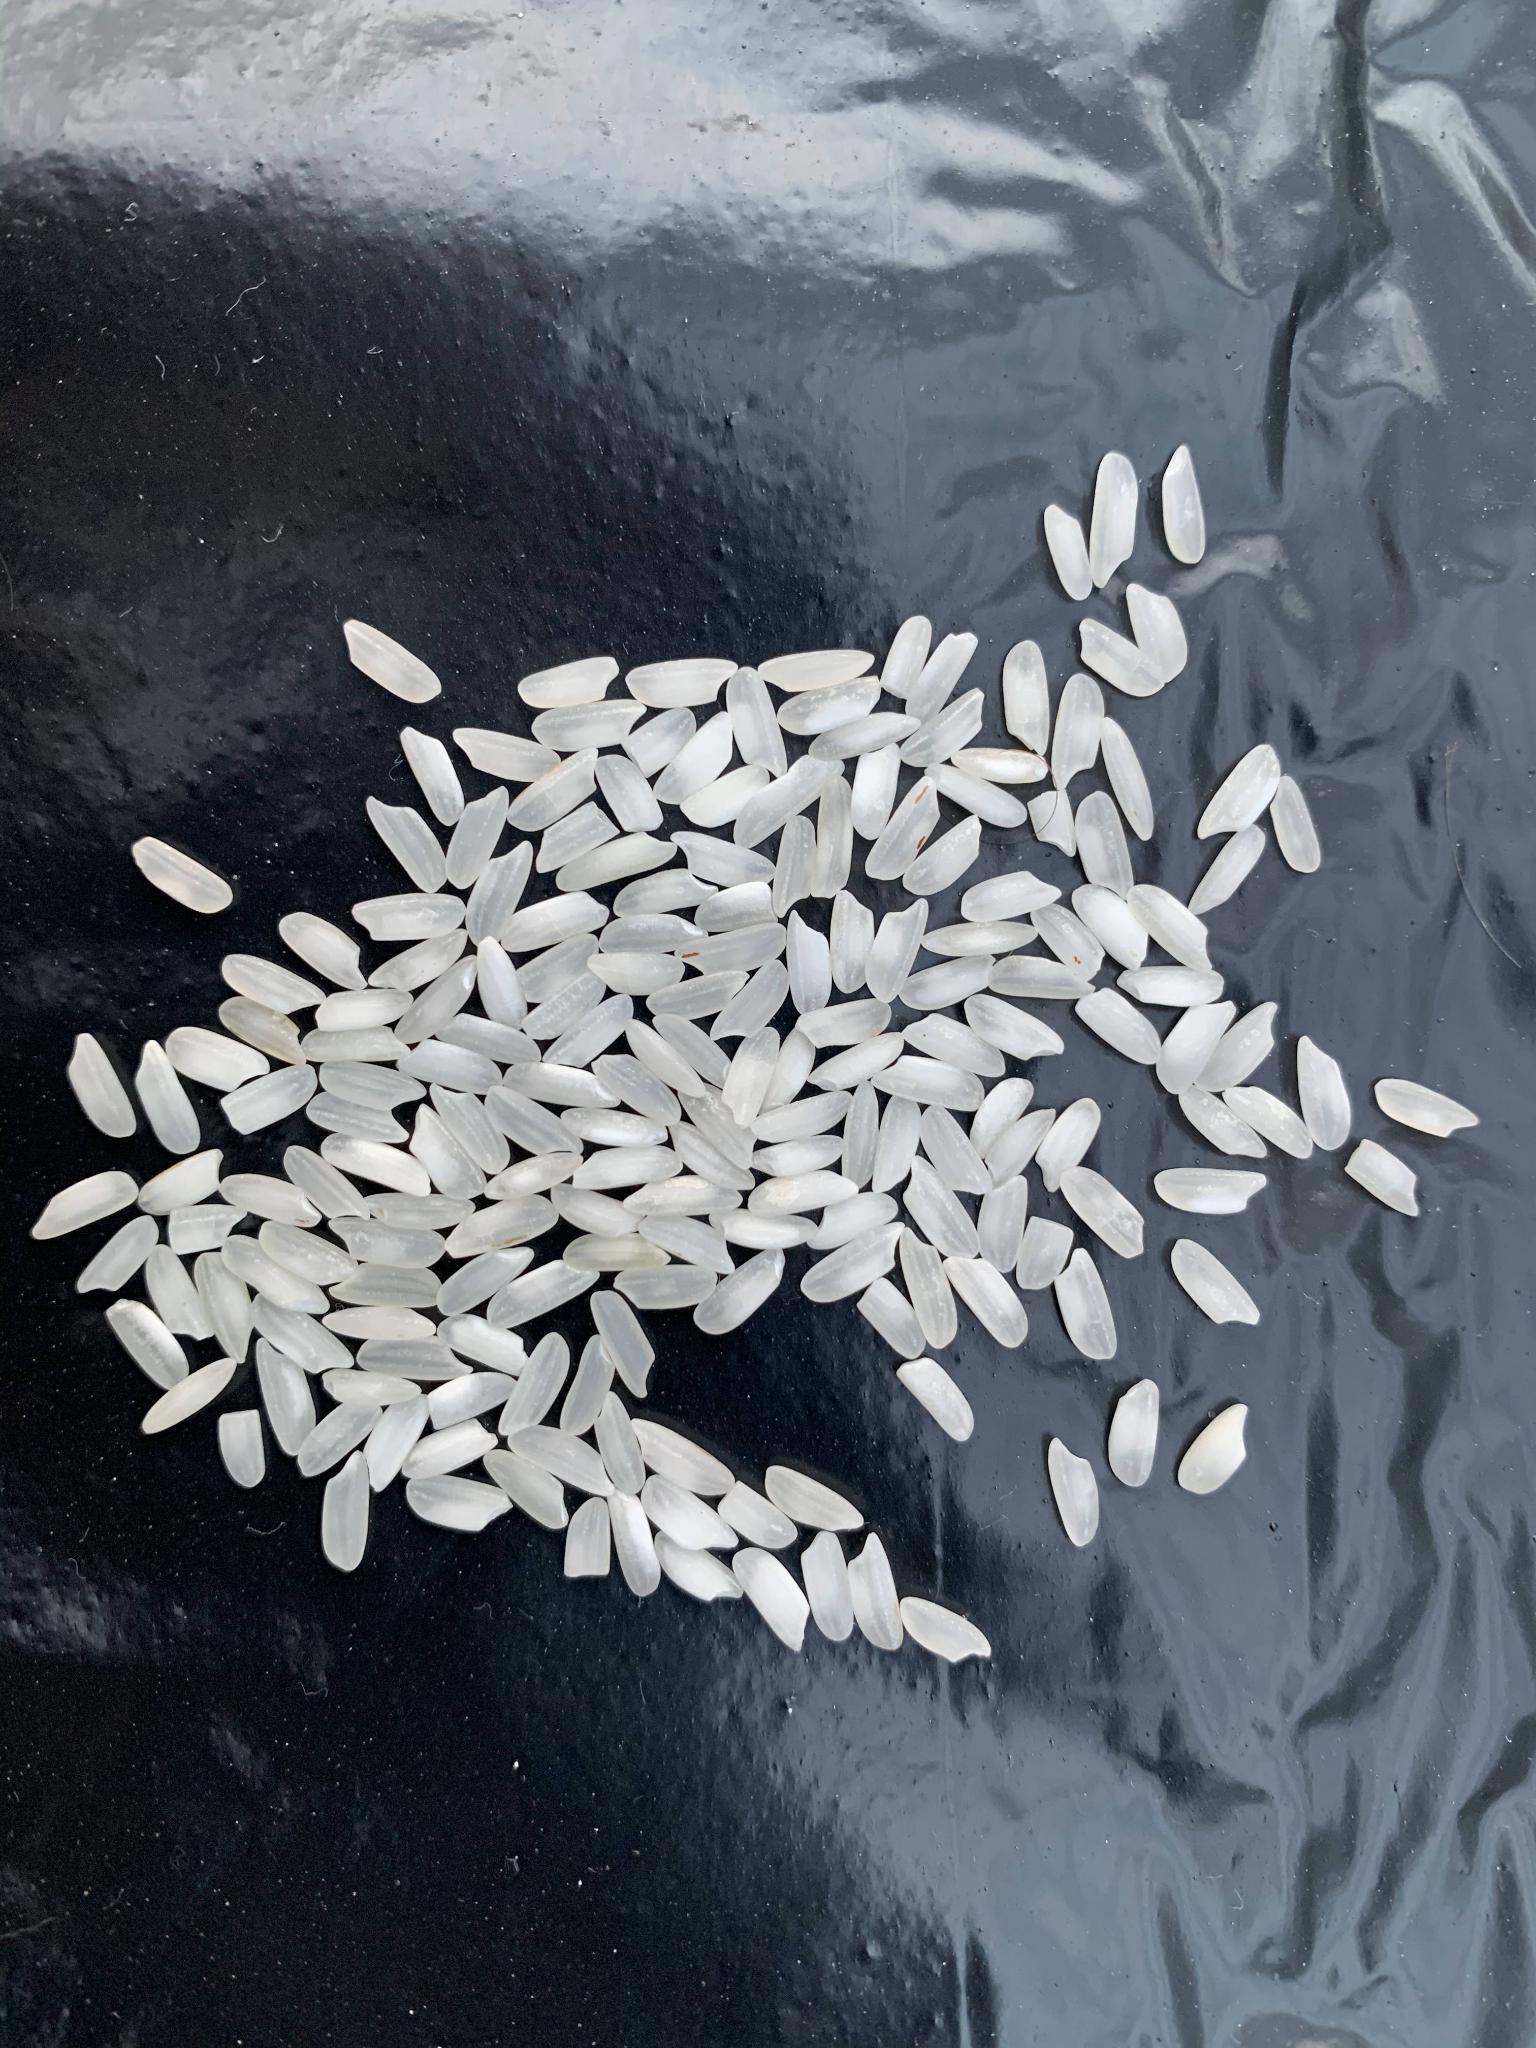rice: (734, 756, 845, 851), (800, 1222, 907, 1305), (253, 1292, 353, 1377), (344, 621, 442, 705), (692, 1251, 787, 1337), (1196, 1001, 1283, 1093), (944, 1256, 1029, 1350), (1155, 1000, 1238, 1097), (733, 1546, 808, 1651), (365, 795, 445, 893), (1171, 1238, 1260, 1327), (632, 1417, 734, 1495), (131, 835, 232, 913), (132, 1039, 202, 1151), (653, 710, 734, 806), (499, 1330, 573, 1435), (904, 1156, 979, 1258), (1199, 743, 1279, 839), (866, 776, 937, 884), (227, 1238, 331, 1313), (1129, 885, 1217, 972), (508, 748, 600, 830), (555, 832, 678, 893), (318, 1130, 431, 1197), (511, 1426, 616, 1496), (1060, 1168, 1142, 1258), (65, 1034, 136, 1137), (106, 1300, 189, 1388), (445, 1195, 558, 1259), (490, 1264, 602, 1329), (1075, 985, 1162, 1068), (221, 1063, 319, 1135), (431, 1082, 510, 1172), (1176, 1085, 1268, 1163), (32, 1172, 139, 1238), (466, 842, 532, 948), (257, 1337, 316, 1455), (282, 911, 369, 992), (1070, 884, 1149, 972), (1187, 826, 1265, 916), (411, 1106, 487, 1198), (1054, 1250, 1117, 1359), (591, 1292, 655, 1398), (487, 1085, 584, 1156), (1225, 1082, 1313, 1159), (144, 1359, 236, 1434), (728, 666, 789, 777), (902, 1226, 957, 1350), (500, 892, 608, 955), (765, 1464, 865, 1532), (865, 898, 929, 1003), (710, 959, 791, 1043), (1081, 618, 1167, 697), (1176, 1405, 1249, 1496), (1102, 714, 1154, 843), (484, 1450, 568, 1529), (365, 1392, 431, 1492), (963, 995, 1063, 1061), (1089, 453, 1137, 589), (653, 1530, 744, 1603), (904, 1013, 1005, 1077), (907, 634, 978, 726), (400, 727, 466, 826), (652, 1009, 733, 1090), (76, 1216, 158, 1295), (445, 785, 508, 889), (532, 801, 620, 876), (436, 1248, 536, 1313), (928, 763, 1028, 827), (219, 953, 328, 1013), (1078, 792, 1137, 900), (594, 1055, 682, 1127), (1034, 1097, 1100, 1193), (168, 1027, 269, 1090), (921, 1106, 991, 1198), (195, 1251, 252, 1364), (895, 1359, 973, 1442), (1375, 1079, 1481, 1138), (849, 1530, 902, 1650), (144, 1245, 211, 1338), (778, 676, 881, 737), (284, 1147, 371, 1219), (676, 921, 787, 977), (673, 830, 778, 890), (628, 1021, 705, 1101), (902, 814, 979, 895), (902, 690, 986, 764), (871, 1056, 984, 1111), (899, 1596, 992, 1663), (1297, 1035, 1350, 1151), (260, 1222, 360, 1284), (682, 1087, 757, 1169), (531, 698, 645, 751), (507, 1059, 624, 1111), (544, 997, 629, 1068), (670, 1122, 755, 1193), (1126, 584, 1187, 682), (452, 729, 561, 784), (331, 1216, 447, 1268), (403, 1416, 499, 1479), (1031, 903, 1105, 984), (298, 1405, 382, 1476), (219, 997, 305, 1066), (405, 1476, 513, 1530), (1108, 1379, 1162, 1488), (437, 1013, 541, 1069), (624, 656, 737, 708), (1052, 674, 1102, 790), (369, 932, 466, 992), (800, 1532, 852, 1643), (608, 1485, 660, 1596), (440, 1314, 529, 1379), (679, 764, 768, 829), (808, 1032, 904, 1092), (721, 1026, 778, 1126), (808, 711, 921, 761), (1346, 1138, 1418, 1216), (720, 1479, 799, 1550), (983, 1109, 1054, 1188), (516, 934, 599, 1001), (755, 647, 878, 692), (805, 1192, 900, 1250), (139, 1150, 224, 1214), (523, 977, 607, 1042), (561, 1335, 615, 1437), (1047, 1438, 1097, 1546), (474, 934, 529, 1032), (323, 1451, 368, 1571), (1155, 1168, 1267, 1216), (621, 706, 697, 777), (223, 1172, 318, 1229), (755, 1090, 850, 1147), (318, 1061, 428, 1109), (644, 1216, 737, 1272), (1162, 443, 1205, 564), (402, 1042, 503, 1093), (850, 743, 904, 842), (899, 956, 997, 1009), (1005, 640, 1050, 755), (520, 656, 620, 708), (599, 753, 665, 830), (860, 1277, 925, 1356), (978, 1176, 1029, 1274), (971, 1077, 1033, 1159), (332, 1264, 444, 1309), (310, 1092, 410, 1142), (962, 872, 1062, 922), (744, 1171, 862, 1213), (871, 1093, 921, 1192), (429, 1374, 516, 1430), (570, 1150, 682, 1193), (792, 1000, 894, 1048), (647, 971, 749, 1019), (549, 1185, 645, 1235), (1042, 505, 1092, 600), (784, 910, 829, 1014), (758, 1029, 813, 1114), (623, 1176, 744, 1214), (611, 871, 718, 914), (486, 1151, 581, 1200), (829, 890, 873, 995), (707, 1209, 820, 1250), (1275, 776, 1321, 872), (358, 1338, 474, 1377), (1117, 968, 1226, 1008), (599, 914, 708, 955), (561, 1106, 670, 1147), (749, 1134, 845, 1177), (352, 895, 465, 932), (841, 1080, 878, 1193), (303, 1026, 411, 1064), (615, 1266, 718, 1306), (361, 1193, 478, 1229), (921, 921, 1037, 956), (694, 884, 776, 934), (883, 616, 933, 698), (1016, 1218, 1073, 1288), (324, 1306, 436, 1342), (169, 1205, 247, 1255), (591, 955, 686, 995), (323, 1367, 421, 1406), (313, 992, 411, 1030), (565, 1234, 671, 1269), (218, 1409, 265, 1488), (566, 1498, 610, 1579), (957, 747, 1049, 784)
